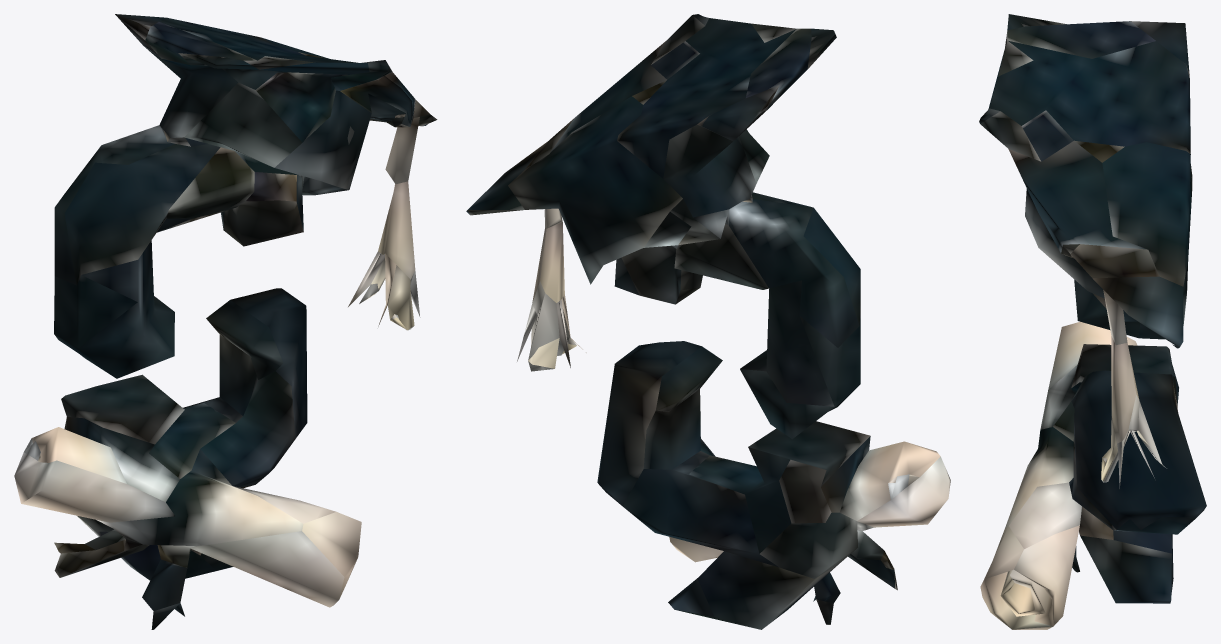
3 renders of one model, left to right at view 1: azimuth 30°, elevation 25°; view 2: azimuth 150°, elevation 25°; view 3: azimuth 270°, elevation 25°, orthographic. The views are drawn at different scales.
Parts seen in each view (by area): view 1: Graduation-S; view 2: Graduation-S; view 3: Graduation-S.
Boxes of the visible parts, <box> form: Graduation-S: <box>14,14,437,629</box>; Graduation-S: <box>466,14,950,629</box>; Graduation-S: <box>979,14,1206,629</box>.
Bounding box in the file's own units: 0.2489 × 0.3104 × 0.1119.
1 material, 1 textured.
